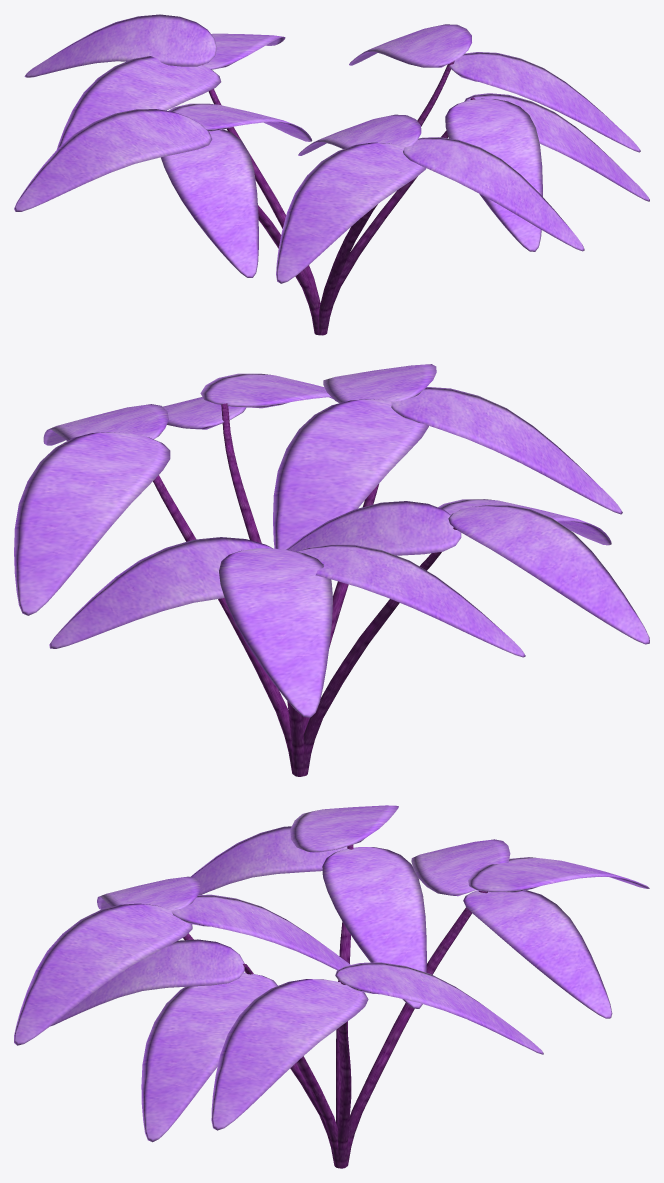
File: PurpleBush.fbx
3 renders of one model, top to bottom at view 1: azimuth 30°, elevation 25°; view 2: azimuth 150°, elevation 25°; view 3: azimuth 270°, elevation 25°, orthographic. The views are drawn at different scales.
Visible parts, largest first — view 1: polySurface4; view 2: polySurface4; view 3: polySurface4.
Boxes of the visible parts, bbox=[...] form: polySurface4: bbox=[14, 14, 649, 335]; polySurface4: bbox=[14, 364, 649, 776]; polySurface4: bbox=[14, 805, 649, 1168].
Size of the model in its own units: 14.17 by 6.07 by 13.23.
Materials: 14 (14 with a texture image).
